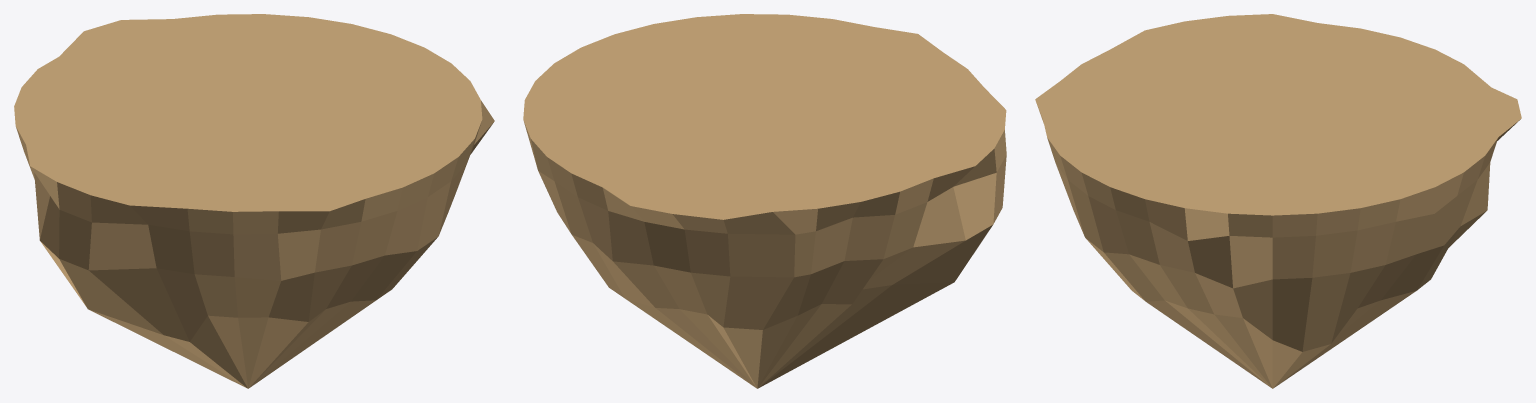
The model's file is Island.fbx.
3 views of the same model, side by side, from view 1: azimuth 30°, elevation 25°; view 2: azimuth 150°, elevation 25°; view 3: azimuth 270°, elevation 25° (orthographic).
Parts seen in each view (by area): view 1: Cylinder; view 2: Cylinder; view 3: Cylinder.
Part boxes in pixels (box(x1,y1,x2,y2)): Cylinder: box(14, 14, 494, 388); Cylinder: box(523, 14, 1006, 388); Cylinder: box(1035, 14, 1521, 388).
Bounding box in the file's own units: 7258 × 4543 × 7404.
